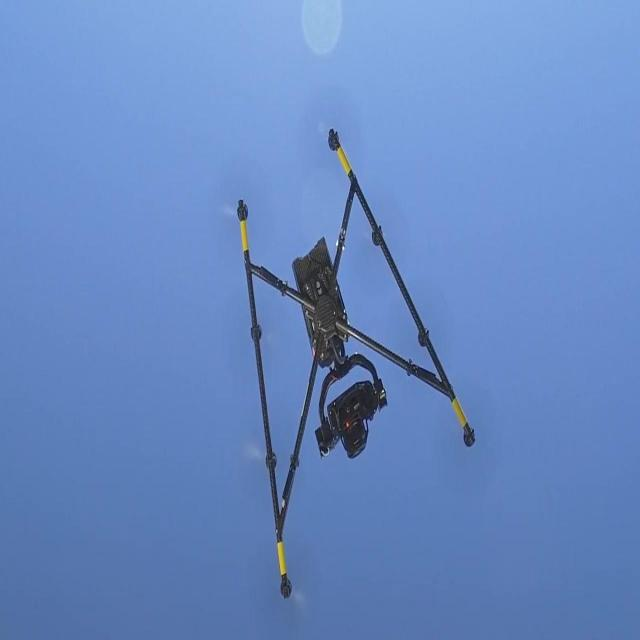UAV: (209, 88, 493, 632)
